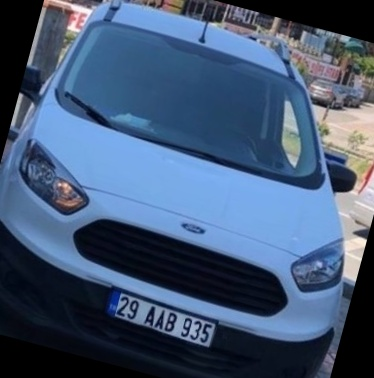plaka: (115, 290, 217, 346)
